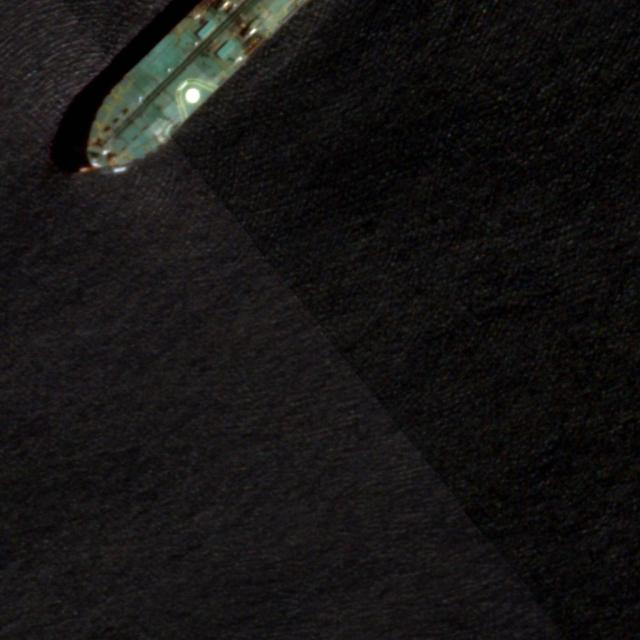boats: (84, 4, 309, 179)
